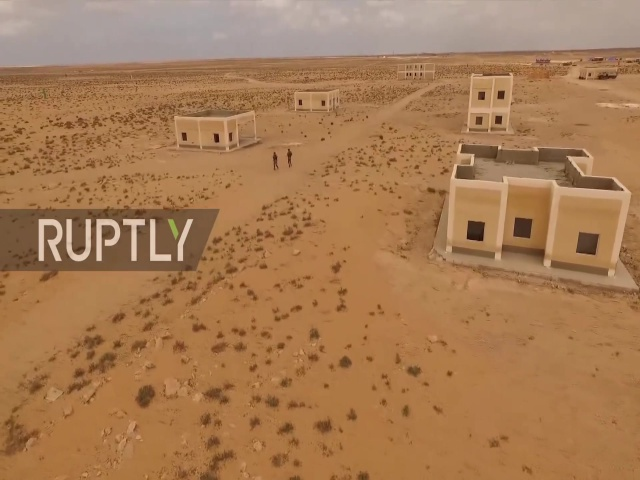person: (285, 147, 294, 170), (271, 150, 280, 171)
